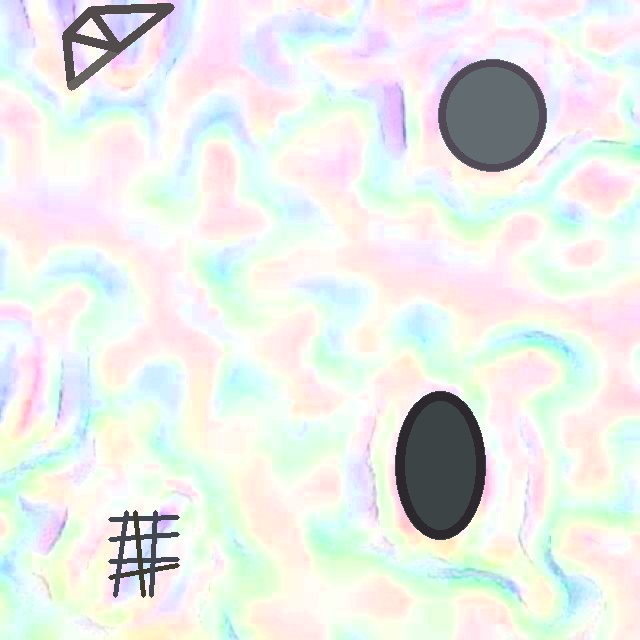close: (396, 392, 485, 539), (438, 60, 545, 171)
open: (63, 6, 173, 89), (108, 510, 179, 597)
